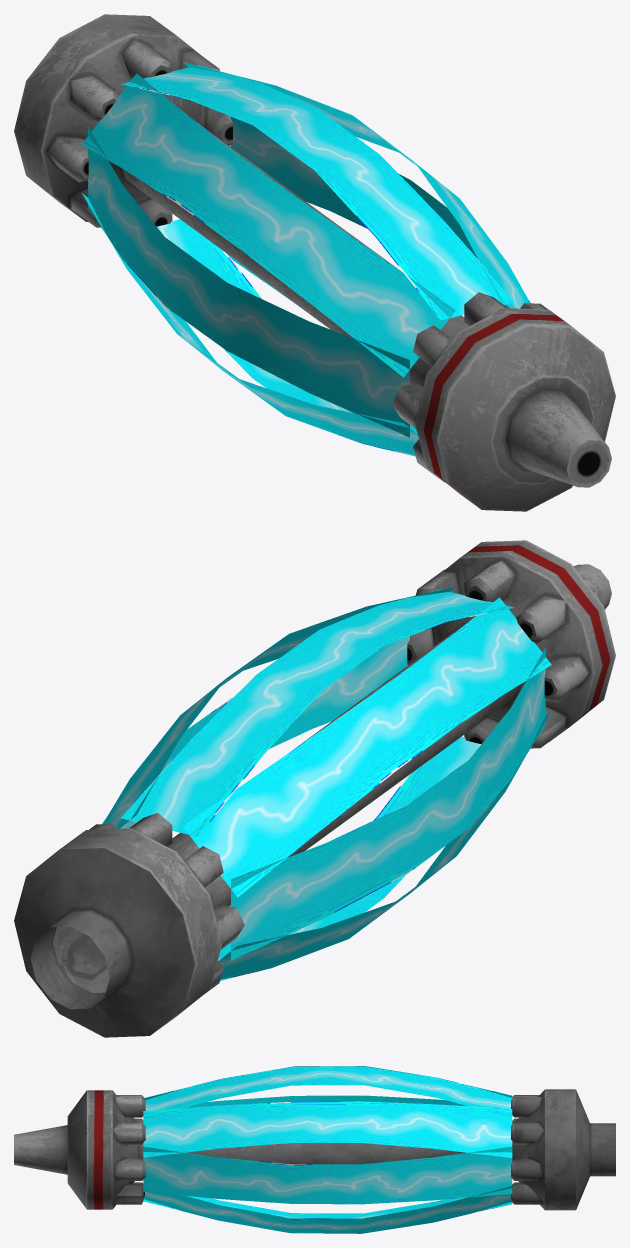
The model's file is SM_LightMeleeMechMace.fbx.
3 views of the same model, one above another, from view 1: azimuth 30°, elevation 25°; view 2: azimuth 150°, elevation 25°; view 3: azimuth 270°, elevation 25° (orthographic). The views are drawn at different scales.
Parts seen in each view (by area): view 1: SM_LightMeleeMechMaceElectricity, SM_LightMeleeMechMace; view 2: SM_LightMeleeMechMaceElectricity, SM_LightMeleeMechMace; view 3: SM_LightMeleeMechMaceElectricity, SM_LightMeleeMechMace.
Boxes of the visible parts, x1,y1,x2,y2 form: SM_LightMeleeMechMaceElectricity: (81, 62, 530, 456); SM_LightMeleeMechMace: (14, 14, 615, 511); SM_LightMeleeMechMaceElectricity: (102, 587, 551, 980); SM_LightMeleeMechMace: (14, 540, 615, 1037); SM_LightMeleeMechMaceElectricity: (143, 1066, 512, 1233); SM_LightMeleeMechMace: (14, 1089, 615, 1210).
Size of the model in its own units: 51.63 by 51.51 by 191.
